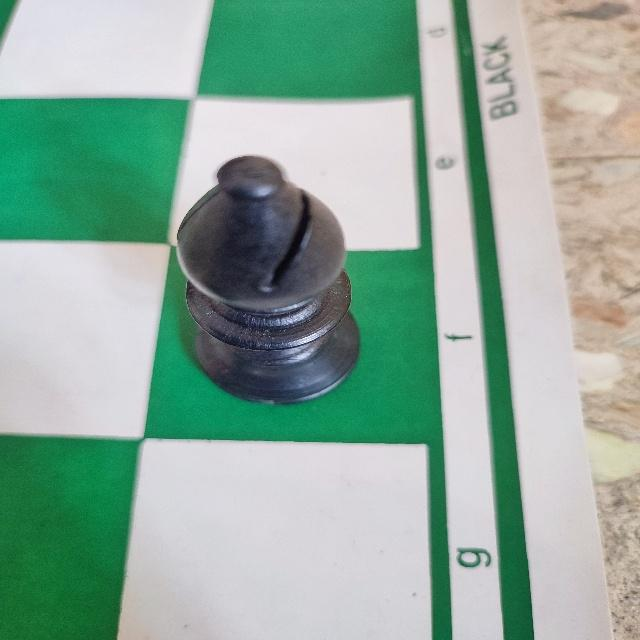Bishop: (172, 154, 364, 410)
